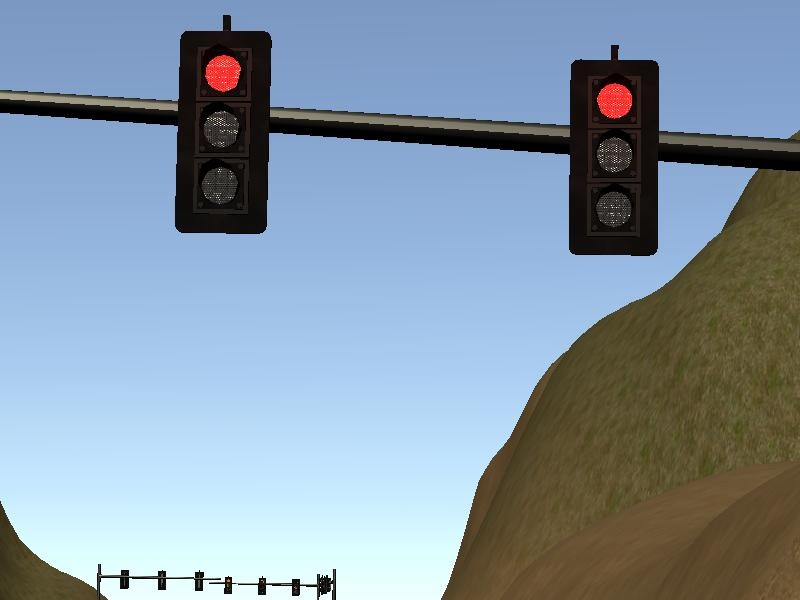red: (168, 25, 276, 242), (564, 51, 666, 268)
